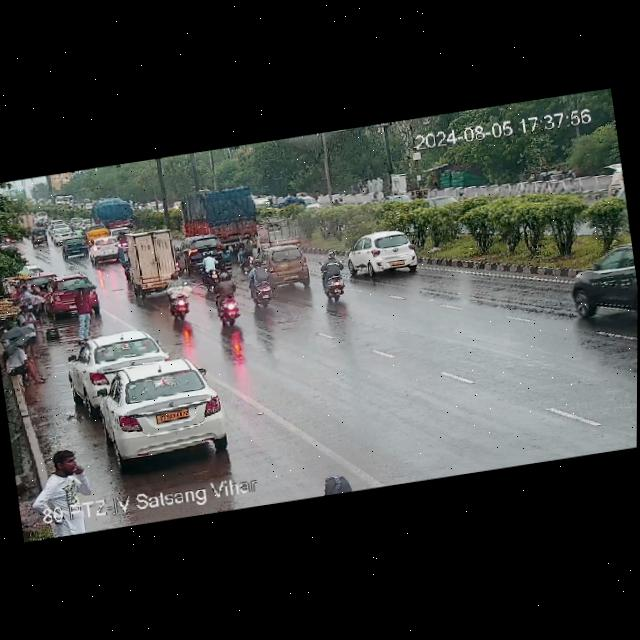car: (93, 354, 229, 465), (69, 326, 168, 396), (346, 226, 422, 279), (40, 268, 105, 321), (247, 239, 312, 290), (172, 229, 234, 276), (90, 237, 125, 265), (58, 233, 91, 261), (49, 222, 76, 245), (88, 227, 116, 245), (31, 224, 52, 246)
motorcycle: (317, 249, 357, 303), (208, 269, 244, 329), (245, 254, 279, 311), (163, 270, 194, 323), (199, 250, 224, 291), (234, 231, 256, 269)
person: (26, 445, 96, 510), (0, 323, 50, 392), (67, 278, 103, 342), (17, 283, 44, 318)
truck: (561, 241, 638, 334), (175, 180, 260, 251), (115, 221, 186, 303), (92, 192, 135, 231)
